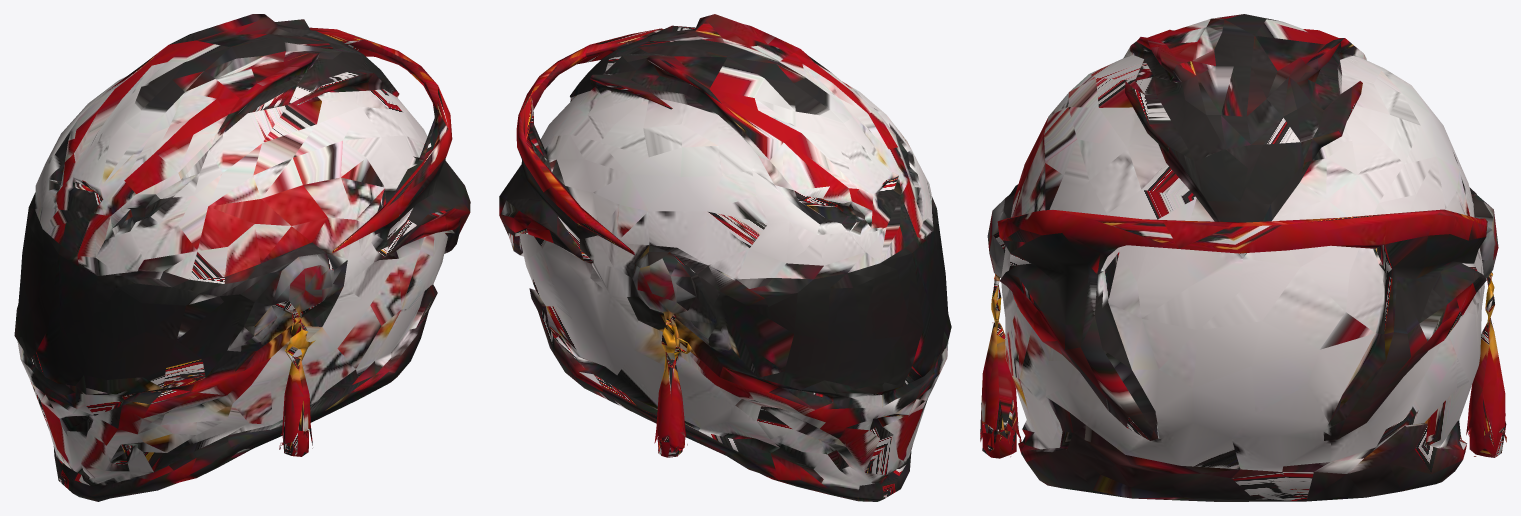
The model's file is helmet.glb.
3 renders of one model, left to right at view 1: azimuth 30°, elevation 25°; view 2: azimuth 150°, elevation 25°; view 3: azimuth 270°, elevation 25°, orthographic. The views are drawn at different scales.
Visible parts, largest first — view 1: piece0; view 2: piece0; view 3: piece0.
Boxes of the visible parts, box(x1,y1,x2,y2) form: piece0: box(14, 14, 470, 501); piece0: box(499, 14, 951, 501); piece0: box(980, 14, 1506, 501).
Bounding box in the file's own units: 0.965 × 1 × 0.8727.
Materials: 1 (1 with a texture image).
